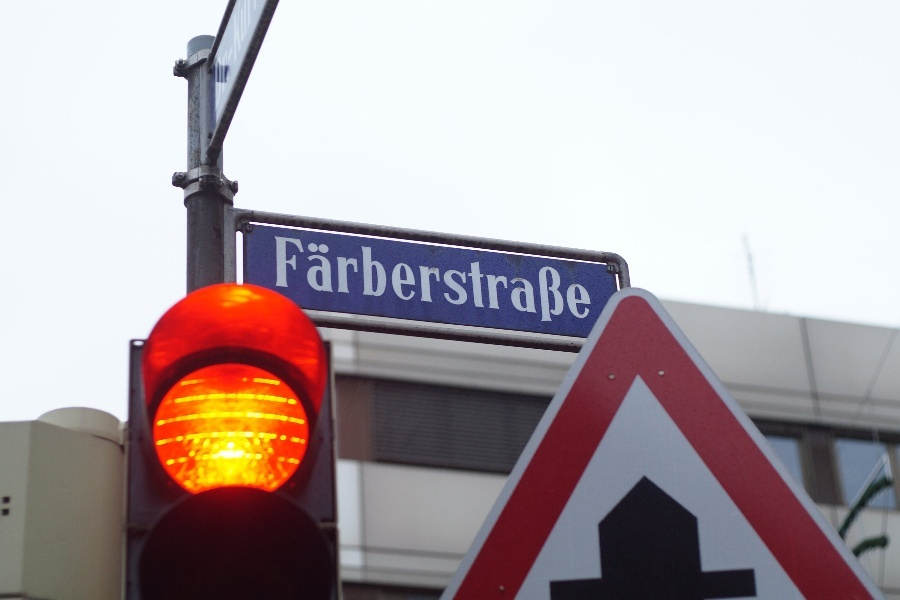text: (225, 1, 240, 112), (241, 1, 256, 112), (577, 235, 593, 327), (289, 235, 304, 327), (305, 235, 320, 327), (321, 235, 336, 327), (337, 235, 352, 327), (353, 235, 368, 327), (369, 235, 384, 327), (385, 235, 400, 327), (401, 235, 416, 327), (417, 235, 432, 327), (433, 235, 448, 327), (449, 235, 464, 327), (465, 235, 480, 327), (481, 235, 496, 327), (497, 235, 512, 327), (513, 235, 528, 327), (529, 235, 544, 327), (545, 235, 560, 327), (561, 235, 576, 327), (274, 235, 288, 327), (213, 1, 224, 112), (257, 1, 262, 112), (1, 496, 16, 519)
